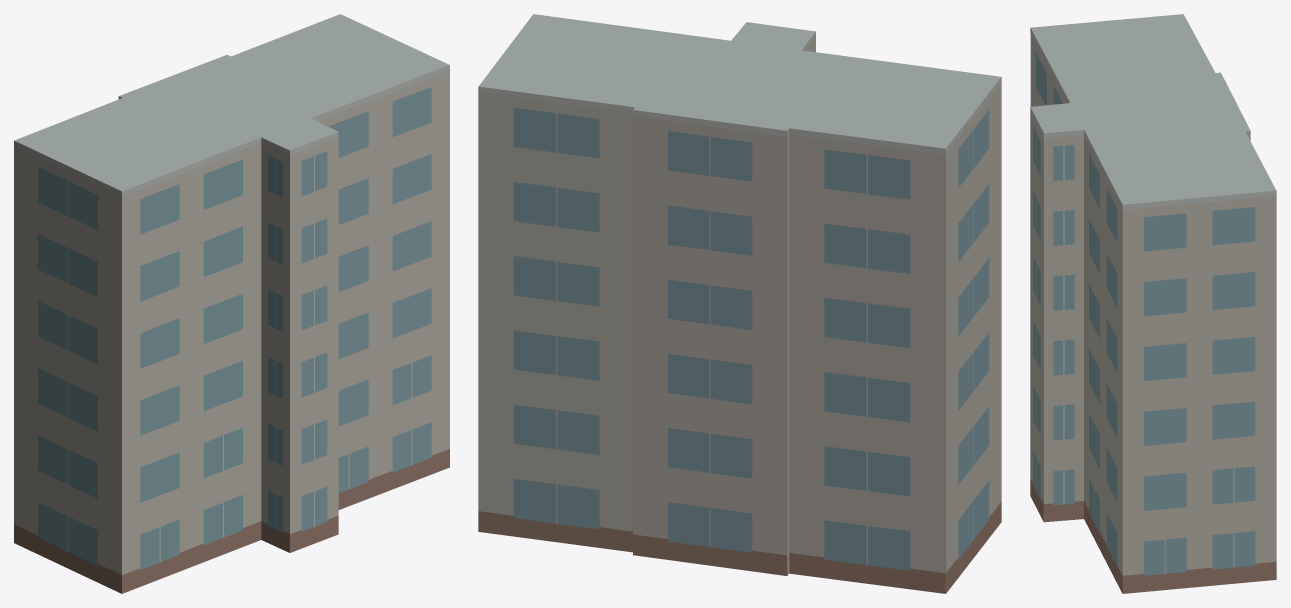
Rendered from survey-upis-32697670.glb.
3 renders of one model, left to right at view 1: azimuth 30°, elevation 25°; view 2: azimuth 150°, elevation 25°; view 3: azimuth 270°, elevation 25°, orthographic. The views are drawn at different scales.
Visible parts, largest first — view 1: survey-upis-32697670.tmp; view 2: survey-upis-32697670.tmp; view 3: survey-upis-32697670.tmp.
Part boxes in pixels (bbox=[...]): survey-upis-32697670.tmp: bbox=[14, 14, 449, 593]; survey-upis-32697670.tmp: bbox=[478, 14, 1001, 593]; survey-upis-32697670.tmp: bbox=[1030, 14, 1276, 593].
Size of the model in its own units: 19.25 by 18.3 by 10.5.
